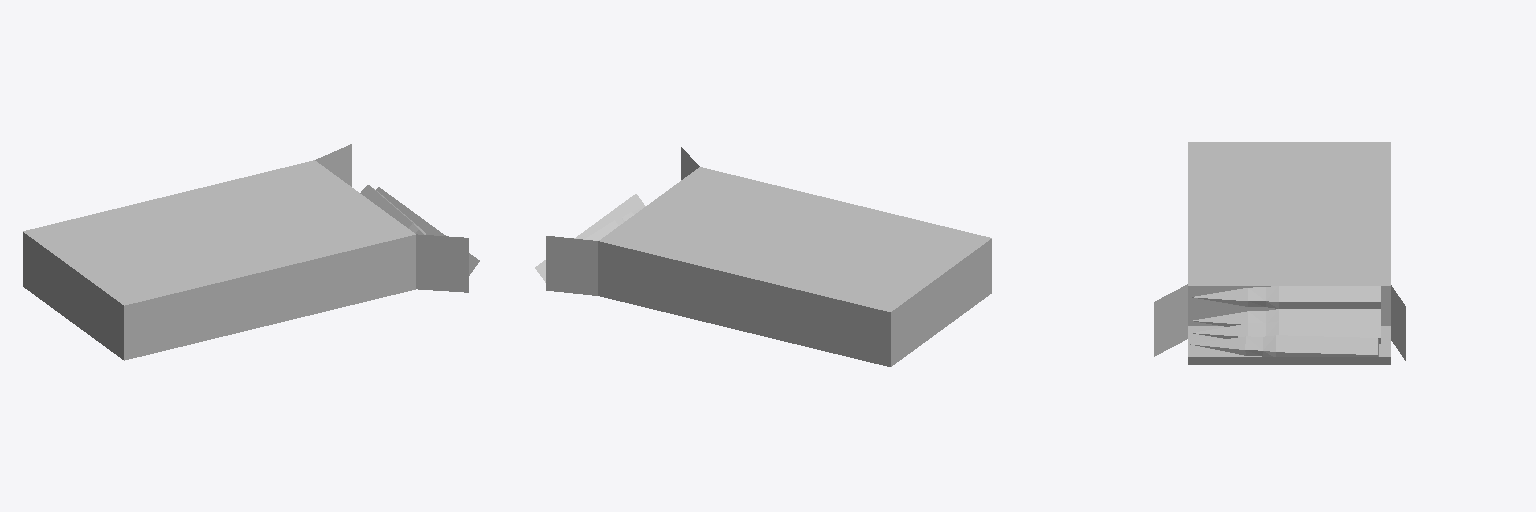
The model's file is RifleAmmo_240.obj.
3 renders of one model, left to right at view 1: azimuth 30°, elevation 25°; view 2: azimuth 150°, elevation 25°; view 3: azimuth 270°, elevation 25°, orthographic.
Visible parts, largest first — view 1: Rifle_Ammo; view 2: Rifle_Ammo; view 3: Rifle_Ammo.
Boxes of the visible parts, <box> form: Rifle_Ammo: <box>23,144,479,360</box>; Rifle_Ammo: <box>535,147,991,366</box>; Rifle_Ammo: <box>1154,142,1405,364</box>.
Size of the model in its own units: 2.21 by 0.3263 by 1.35.